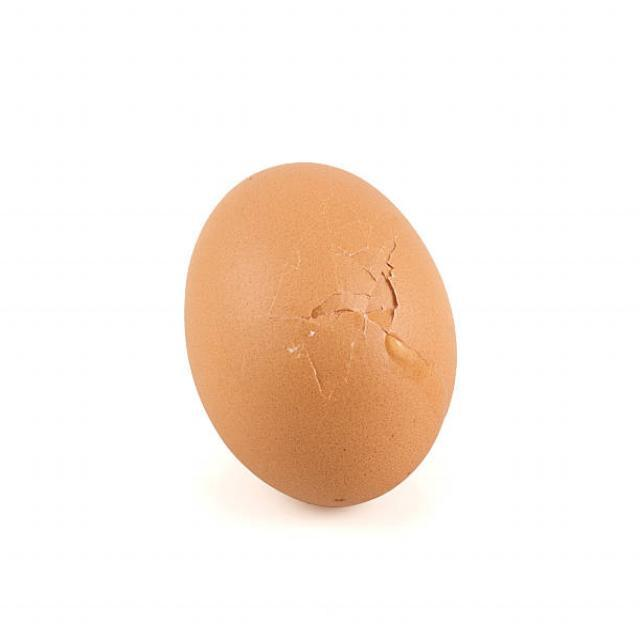biodegradable: (182, 155, 460, 508)
